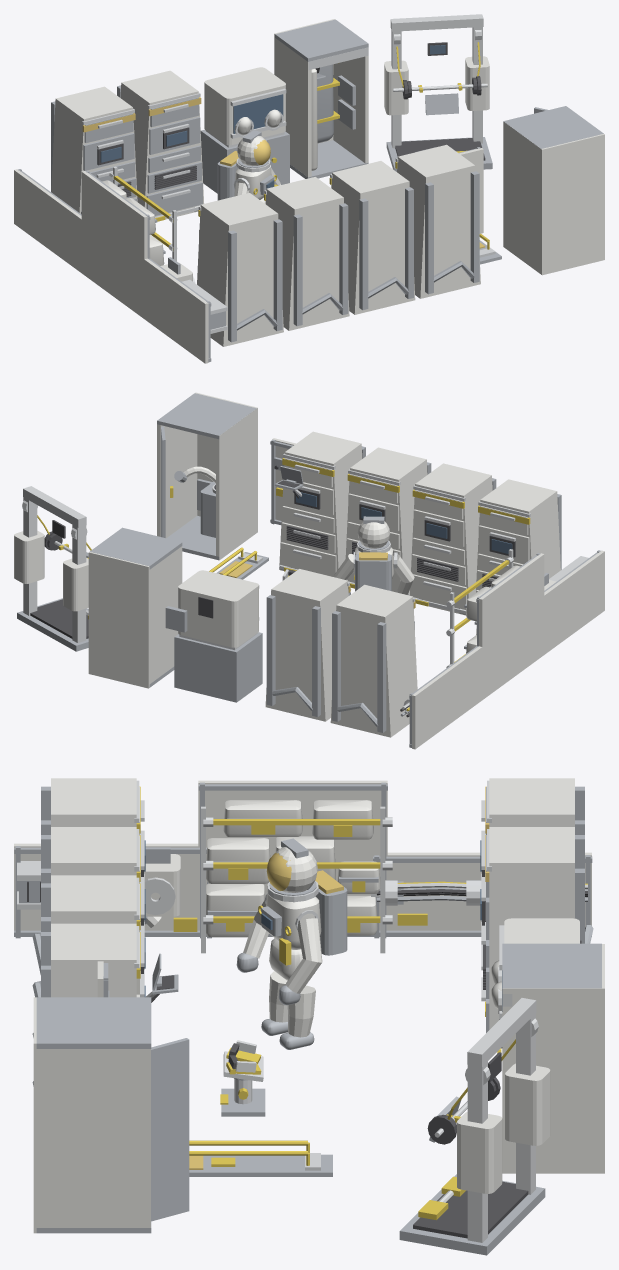
Rendered from orbital-station-and-docking-bays-interior-work-bay-7ab68f06__24585.glb.
The picture shows the model from 3 angles, top to bottom: view 1: azimuth 30°, elevation 25°; view 2: azimuth 150°, elevation 25°; view 3: azimuth 270°, elevation 25°; orthographic projection. The views are drawn at different scales.
Parts seen in each view (by area): view 1: 009-waste-hygiene-stall/0, 000-equipment-rack/0, 001-equipment-rack/0, 002-equipment-rack/0, 003-equipment-rack/0, 010-stowage-bag-wall/0, 007-sleep-station/0, 007-sleep-station/1, 004-equipment-rack-stowage/0, 012-ventilation-duct/0, 005-equipment-rack-stowage/2, 011-cable-bundle-run/0 (+26 smaller); view 2: 007-sleep-station/0, 009-waste-hygiene-stall/0, 004-equipment-rack-stowage/0, 005-equipment-rack-stowage/0, 001-equipment-rack/0, 010-stowage-bag-wall/0, 003-equipment-rack/0, 000-equipment-rack/0, 006-glovebox/0, 002-equipment-rack/0, 006-glovebox/2, 009-waste-hygiene-stall/1 (+20 smaller); view 3: 009-waste-hygiene-stall/0, 010-stowage-bag-wall/0, 007-sleep-station/0, 005-equipment-rack-stowage/0, 015-eva-suit/0, 009-waste-hygiene-stall/stall-door, 008-exercise-device/3, 009-waste-hygiene-stall/1, 008-exercise-device/2, 003-equipment-rack/0, 011-cable-bundle-run/0, 007-sleep-station/1 (+27 smaller).
Boxes of the visible parts, x1,y1,x2,y2 form: 009-waste-hygiene-stall/0: (503, 121, 604, 275); 000-equipment-rack/0: (197, 193, 283, 346); 001-equipment-rack/0: (265, 177, 349, 330); 002-equipment-rack/0: (331, 161, 415, 314); 003-equipment-rack/0: (397, 144, 480, 298); 010-stowage-bag-wall/0: (81, 171, 164, 314); 007-sleep-station/0: (274, 19, 368, 177); 007-sleep-station/1: (275, 19, 368, 178); 004-equipment-rack-stowage/0: (51, 86, 137, 213); 012-ventilation-duct/0: (139, 256, 208, 363); 005-equipment-rack-stowage/2: (117, 85, 202, 215); 011-cable-bundle-run/0: (14, 169, 81, 272); 007-sleep-station/0: (88, 546, 182, 688); 009-waste-hygiene-stall/0: (157, 392, 257, 560); 004-equipment-rack-stowage/0: (330, 584, 417, 737); 005-equipment-rack-stowage/0: (265, 569, 348, 721); 001-equipment-rack/0: (409, 463, 492, 615); 010-stowage-bag-wall/0: (466, 553, 544, 699); 003-equipment-rack/0: (279, 431, 362, 576); 000-equipment-rack/0: (476, 479, 560, 592); 006-glovebox/0: (165, 606, 262, 702); 002-equipment-rack/0: (345, 447, 427, 595); 006-glovebox/2: (178, 570, 258, 647); 009-waste-hygiene-stall/1: (157, 393, 256, 560); 009-waste-hygiene-stall/0: (33, 997, 150, 1233); 010-stowage-bag-wall/0: (198, 780, 387, 937); 007-sleep-station/0: (502, 944, 604, 1173); 005-equipment-rack-stowage/0: (489, 827, 574, 1048); 015-eva-suit/0: (243, 847, 322, 1037); 009-waste-hygiene-stall/stall-door: (151, 1038, 189, 1221); 008-exercise-device/3: (457, 1063, 550, 1193); 009-waste-hygiene-stall/1: (36, 997, 151, 1233); 008-exercise-device/2: (434, 998, 538, 1242); 003-equipment-rack/0: (51, 923, 139, 997); 011-cable-bundle-run/0: (387, 852, 591, 930); 007-sleep-station/1: (502, 943, 601, 988).
Bounding box in the file's own units: 7.68 × 2.19 × 5.93.
